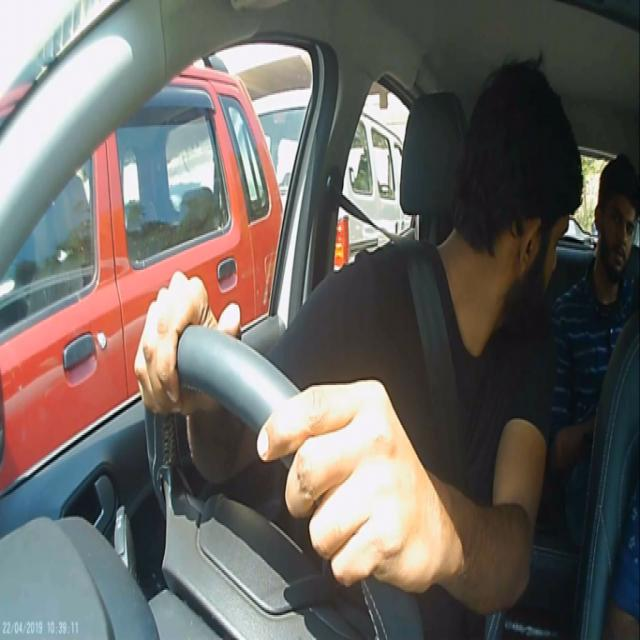seatbelt: (350, 272, 516, 535)
